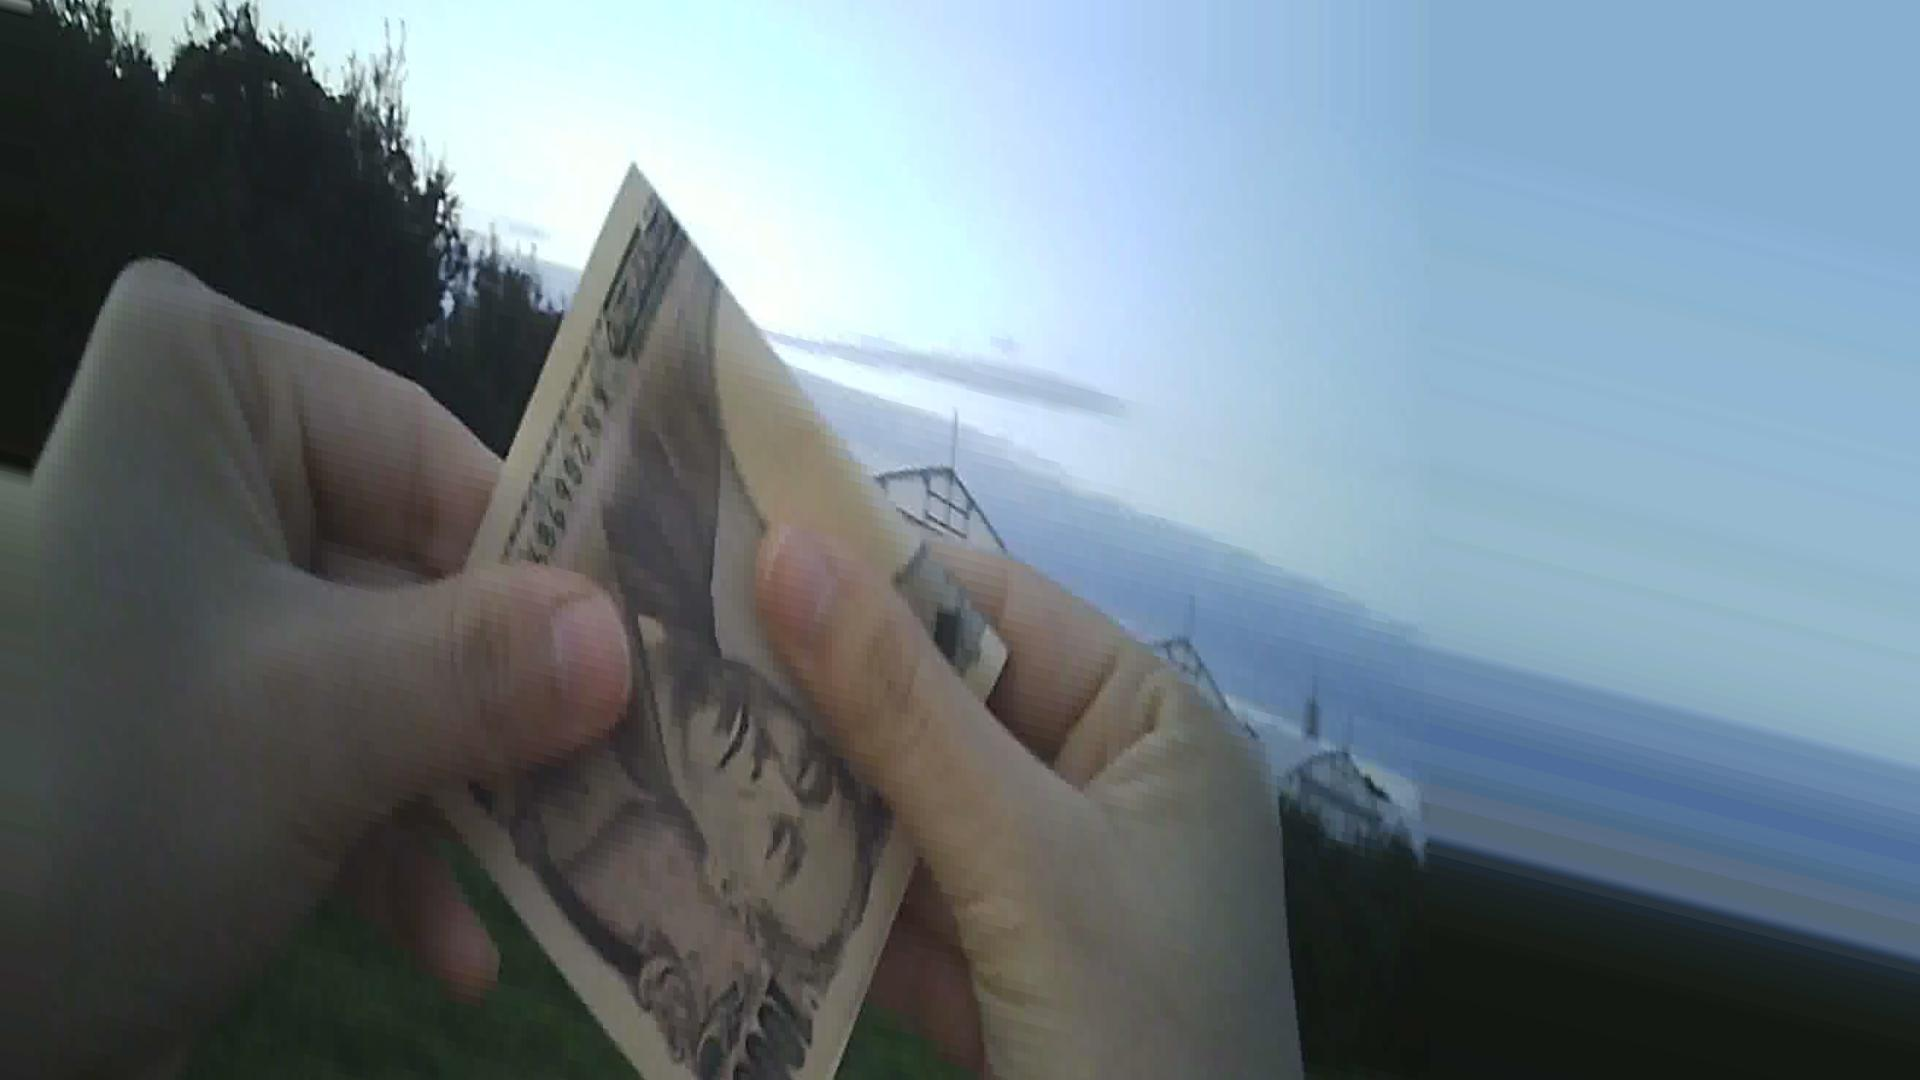10,000 Yen: (340, 170, 1005, 1079)
